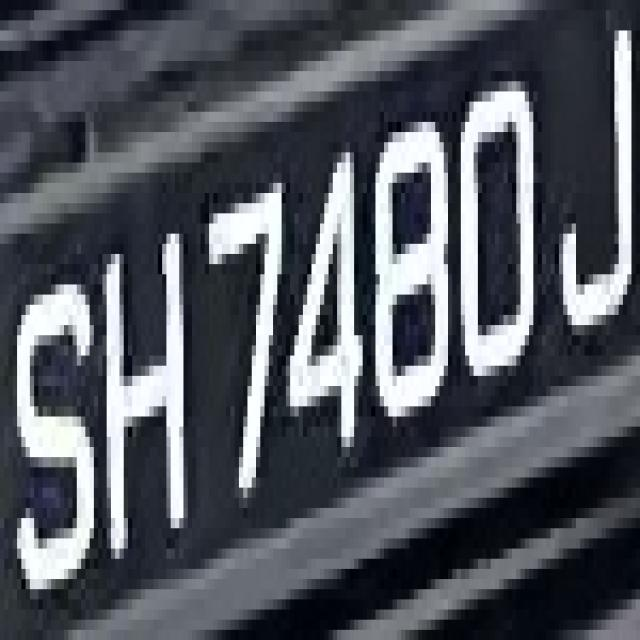0: (448, 31, 538, 396)
4: (286, 152, 375, 478)
7: (204, 163, 298, 518)
8: (371, 102, 465, 457)
H: (98, 193, 205, 569)
J: (554, 20, 640, 345)
S: (17, 233, 98, 620)
